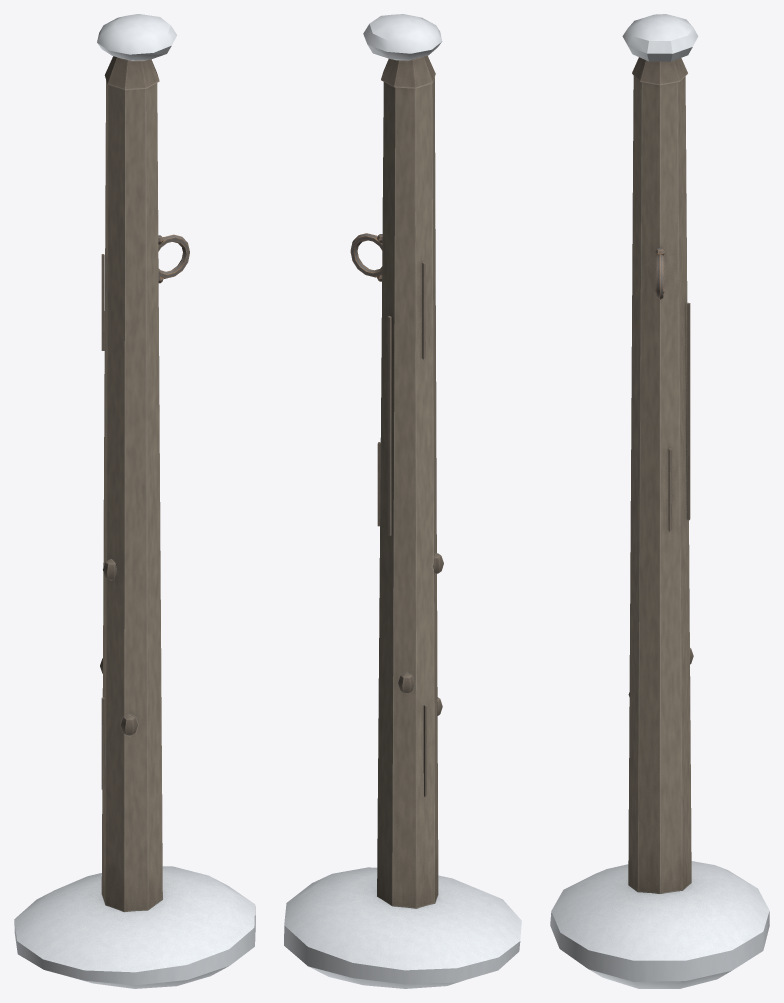
File: rope_post.glb
The picture shows the model from 3 angles, left to right: view 1: azimuth 30°, elevation 25°; view 2: azimuth 150°, elevation 25°; view 3: azimuth 270°, elevation 25°; orthographic projection.
Visible parts, largest first — view 1: rope_post; view 2: rope_post; view 3: rope_post.
Boxes of the visible parts, x1,y1,x2,y2 form: rope_post: (14,14,255,988); rope_post: (284,14,521,988); rope_post: (550,14,769,988).
Bounding box in the file's own units: 0.3449 × 1.47 × 0.3112.
Materials: 1 (1 with a texture image).
